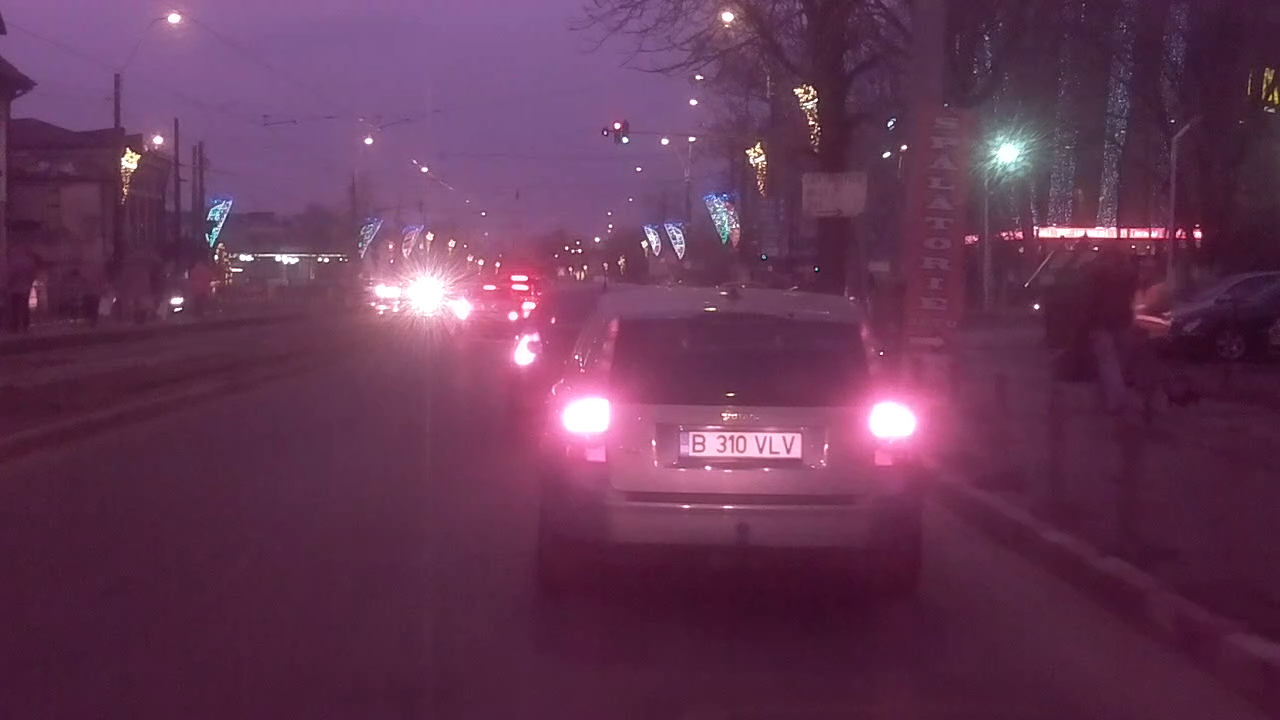license-plate: (673, 427, 807, 462)
